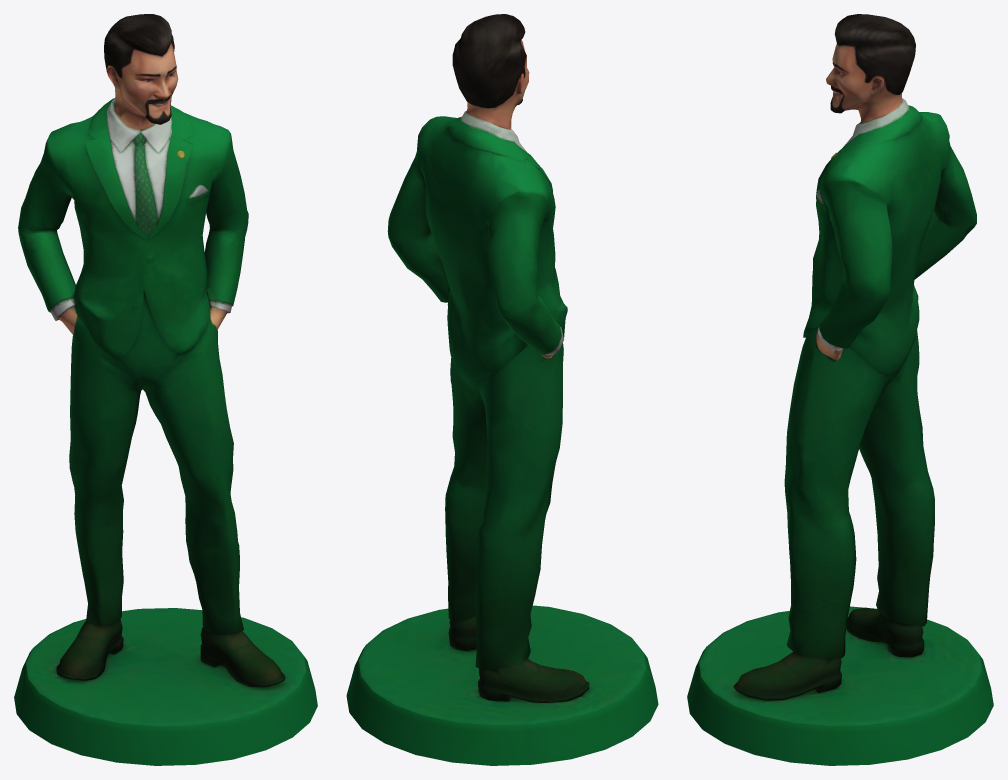
The model's file is emerald_main.obj.
3 views of the same model, side by side, from view 1: azimuth 30°, elevation 25°; view 2: azimuth 150°, elevation 25°; view 3: azimuth 270°, elevation 25° (orthographic). The views are drawn at different scales.
Visible parts, largest first — view 1: greenMain_0; view 2: greenMain_0; view 3: greenMain_0.
Part boxes in pixels (bbox=[...]): greenMain_0: bbox=[14, 14, 317, 765]; greenMain_0: bbox=[346, 14, 658, 765]; greenMain_0: bbox=[687, 14, 993, 765].
Size of the model in its own units: 0.796 by 1.94 by 0.796.
